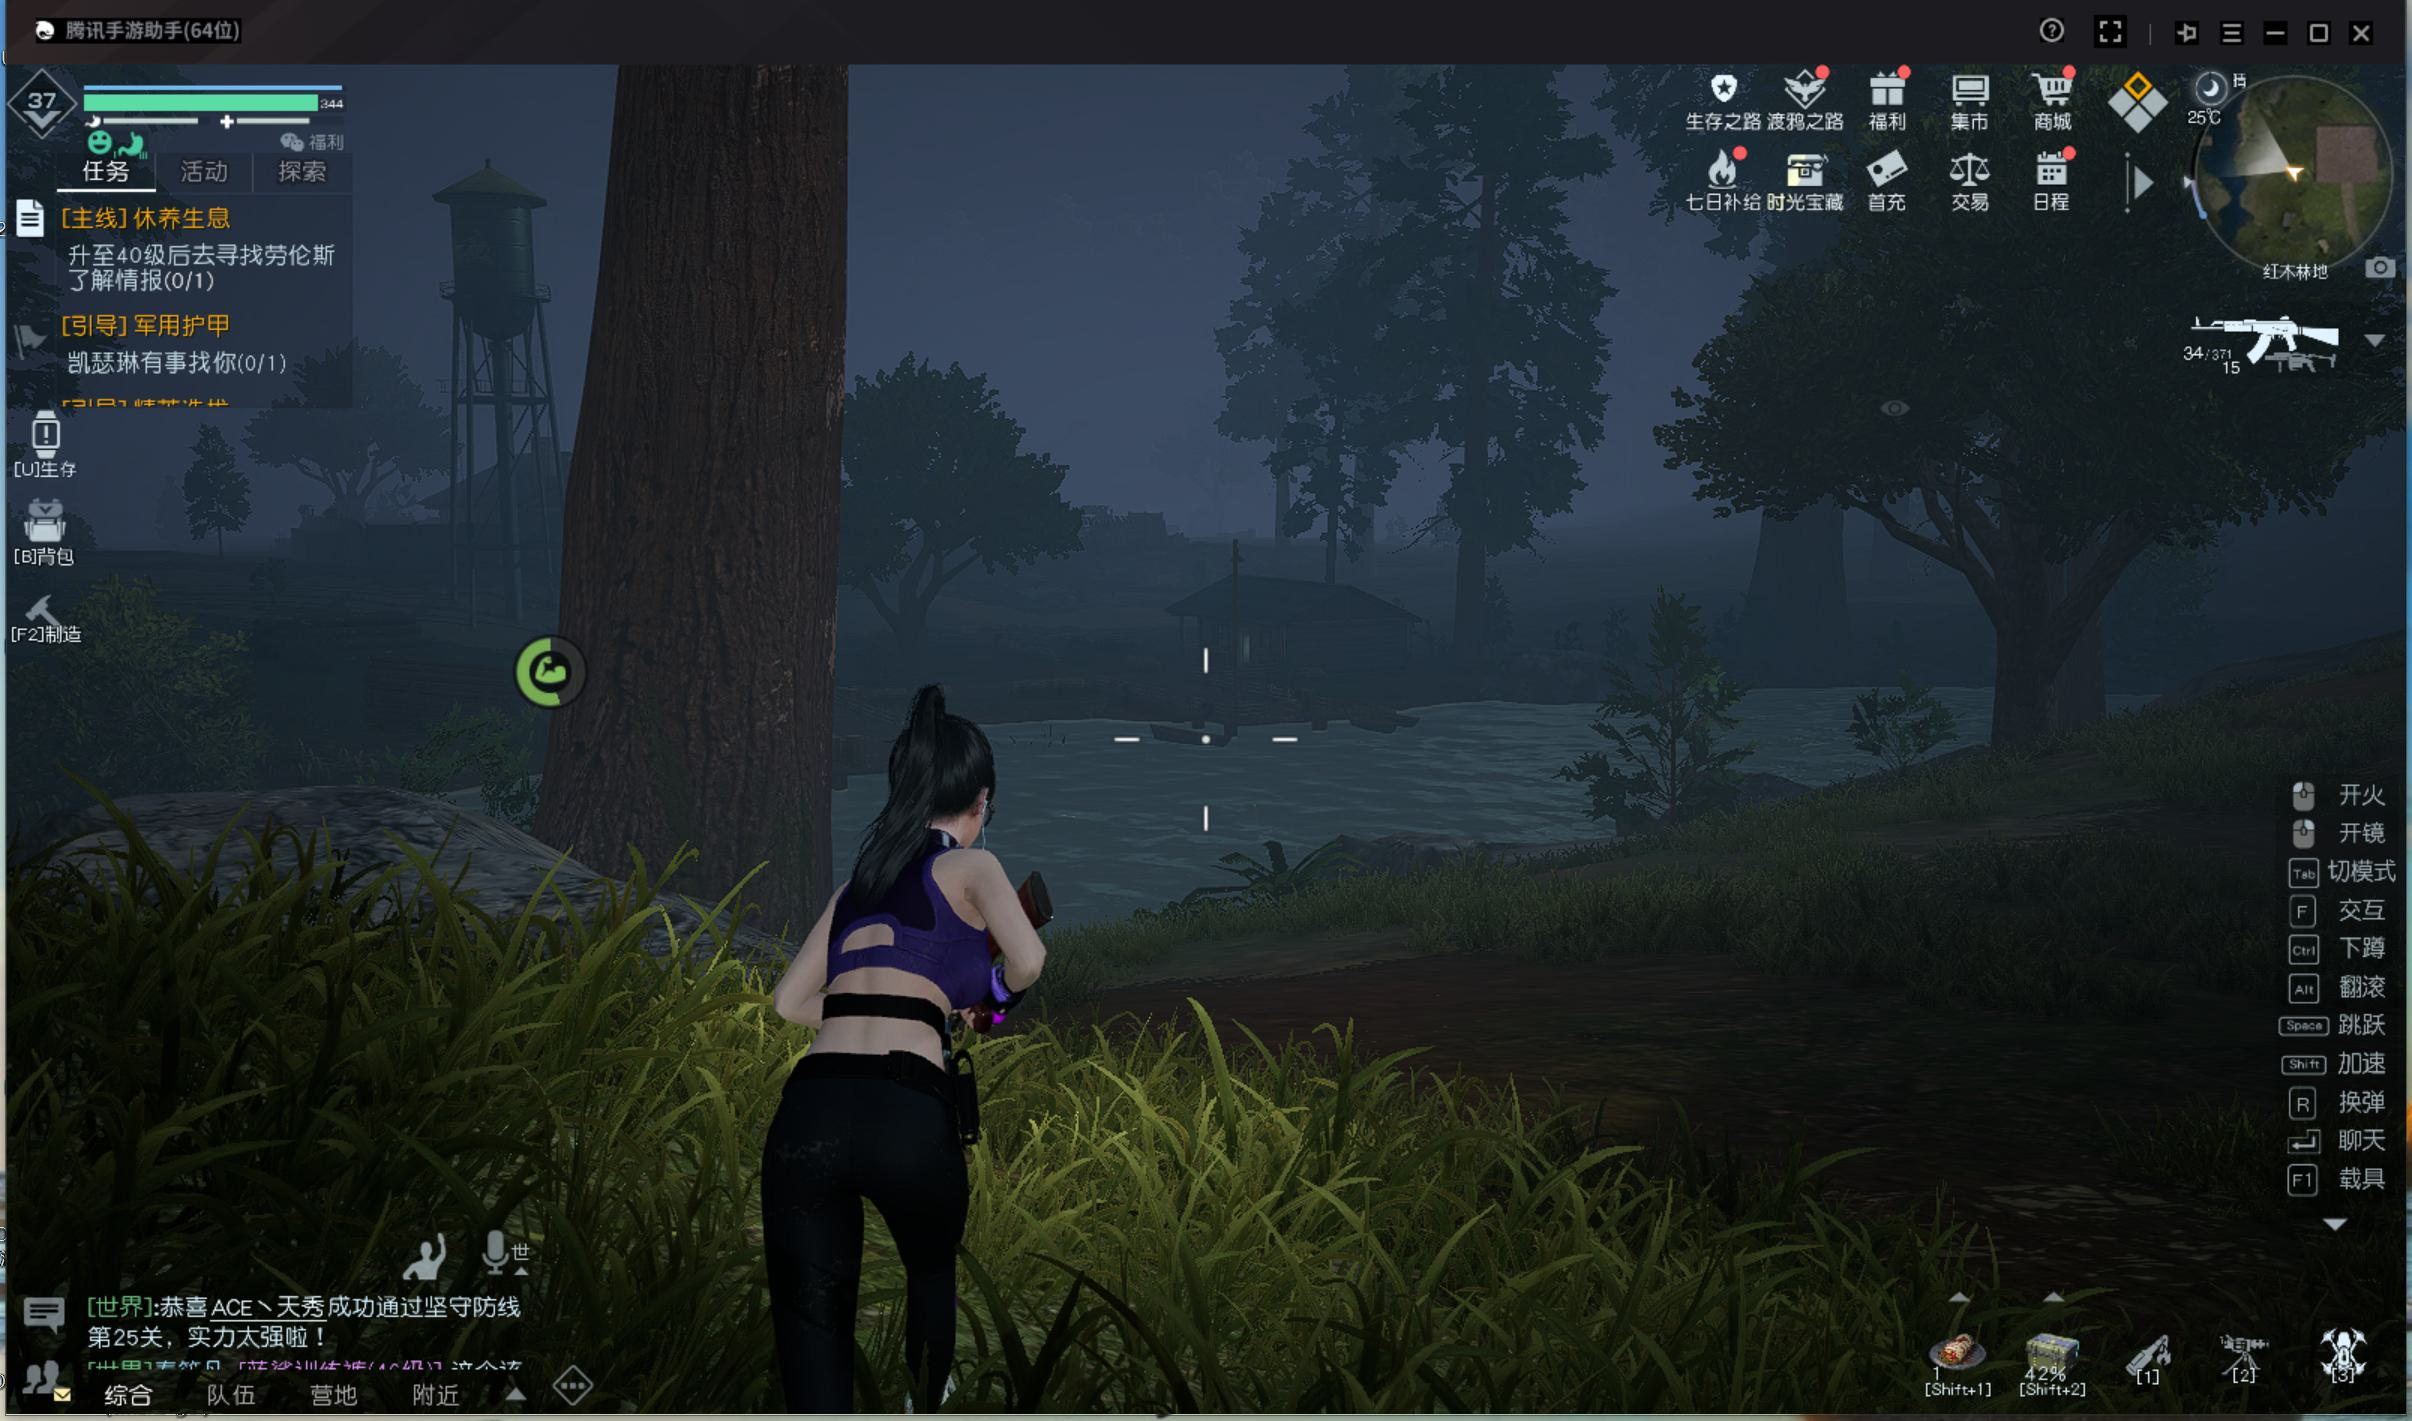tree: (553, 117, 859, 930), (1451, 426, 1519, 663), (1982, 579, 2053, 783)
